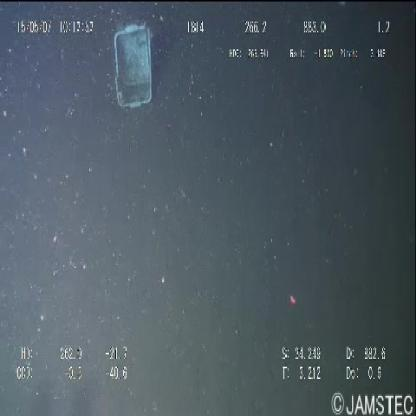Rác: (107, 17, 158, 117)
